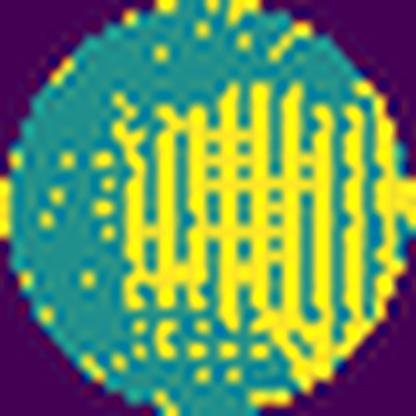Random: (100, 74, 415, 400)
